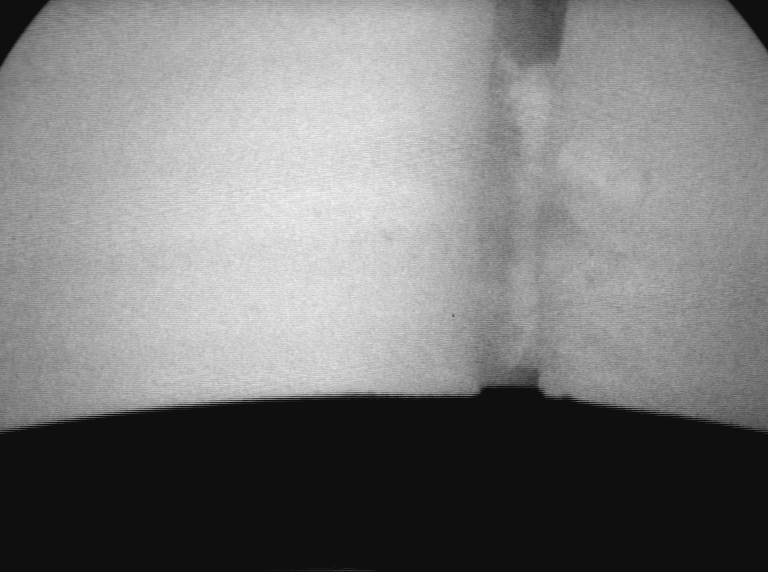defect: (554, 126, 651, 226)
